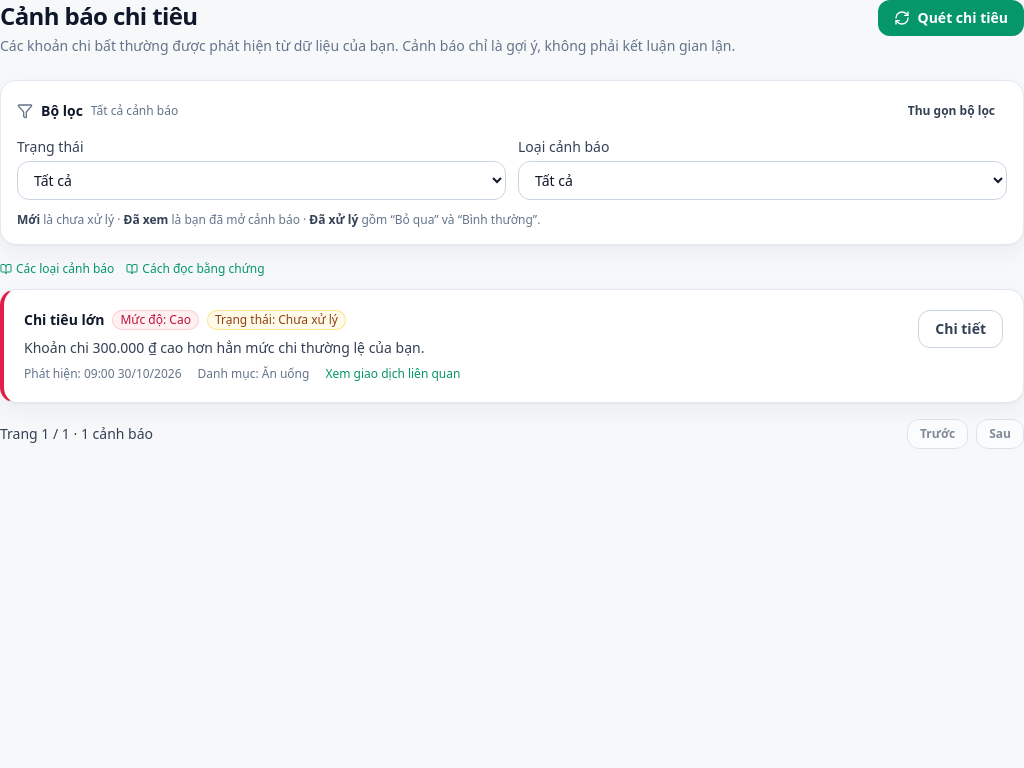
Test: AlertsPage — detail and status changes › keeps the previous status and shows the error when the update fails
Click the button with aria-label "Xem chi tiết": (961, 329) x1=918 y1=310 x2=1003 y2=348
(page scrolled)
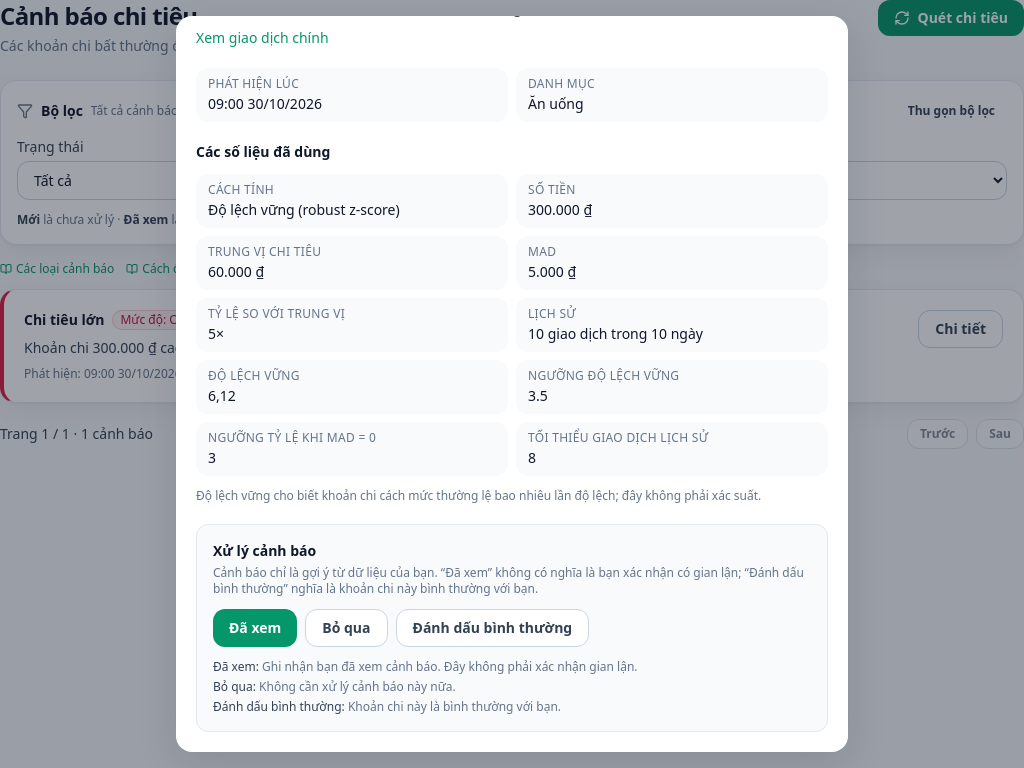
Click the button "Bỏ qua": (346, 628) x1=305 y1=609 x2=388 y2=647
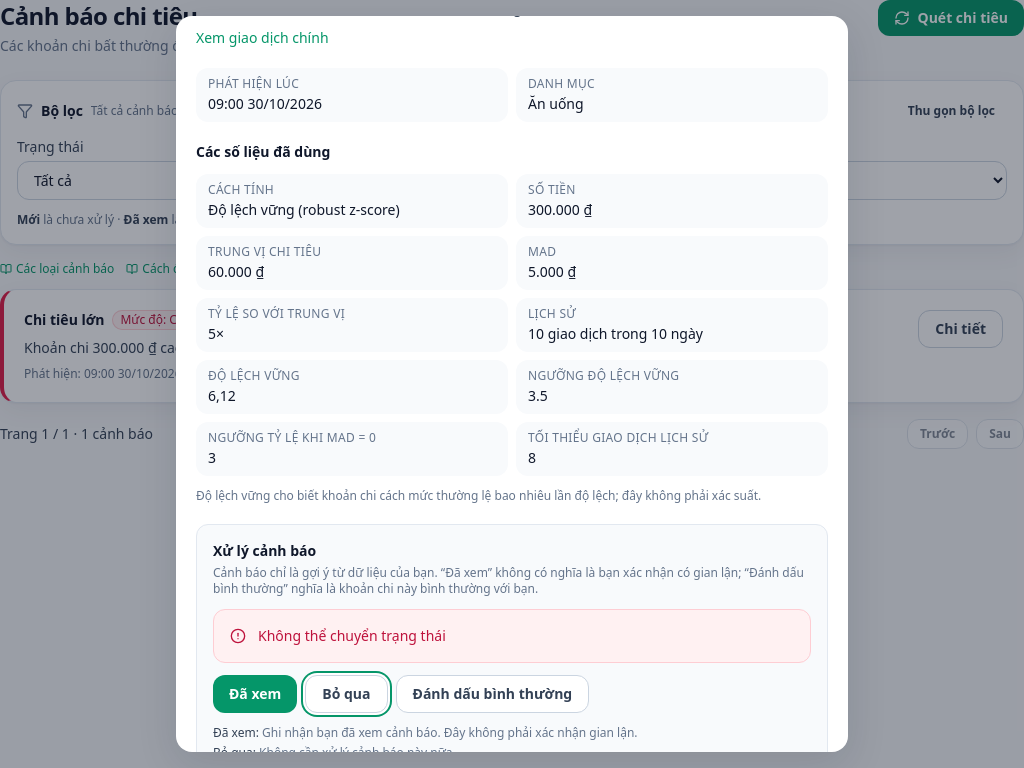
Now the button "Bỏ qua" is enabled, box x1=305 y1=675 x2=388 y2=713
Now the text "Không thể chuyển trạng thái" is shown, box x1=258 y1=626 x2=446 y2=645
